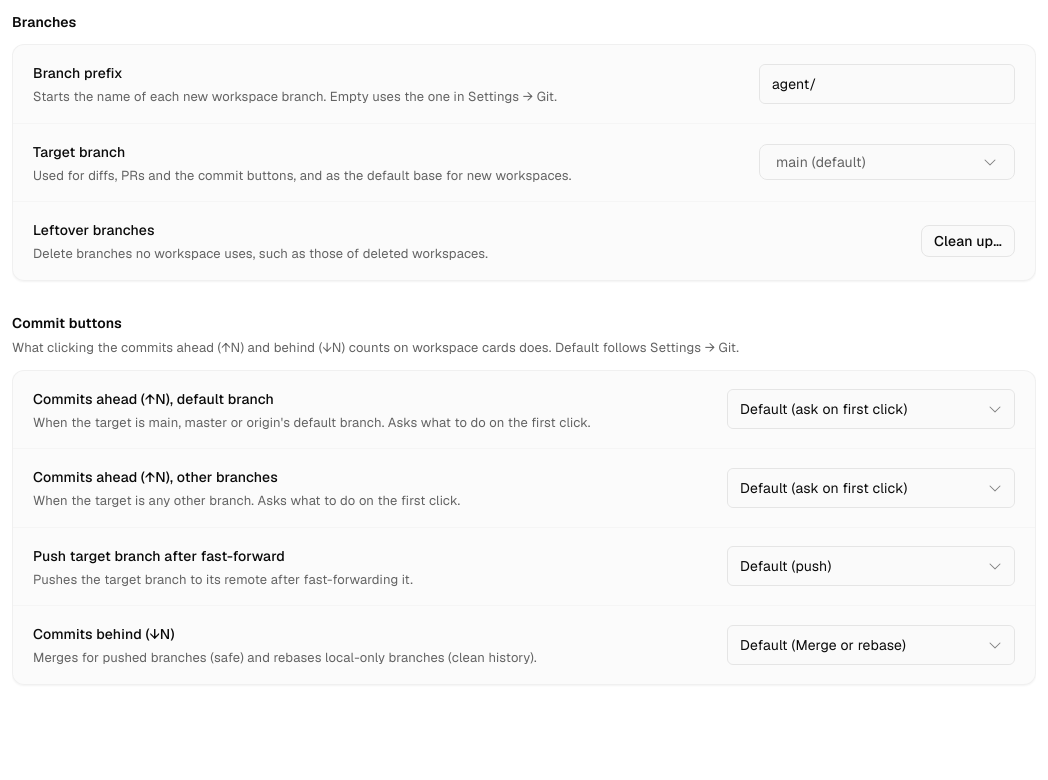
Test: ProjectSettingsPage › asks for the action to run when Run quick command is picked
The image size is (1048, 780).
Expected: the text "Quick command to run for the default branch" is not shown
Select "Run quick command" in the dropdown labelled "Commits ahead (↑N), default branch": coordinates (871, 409) [727, 389, 1015, 429]
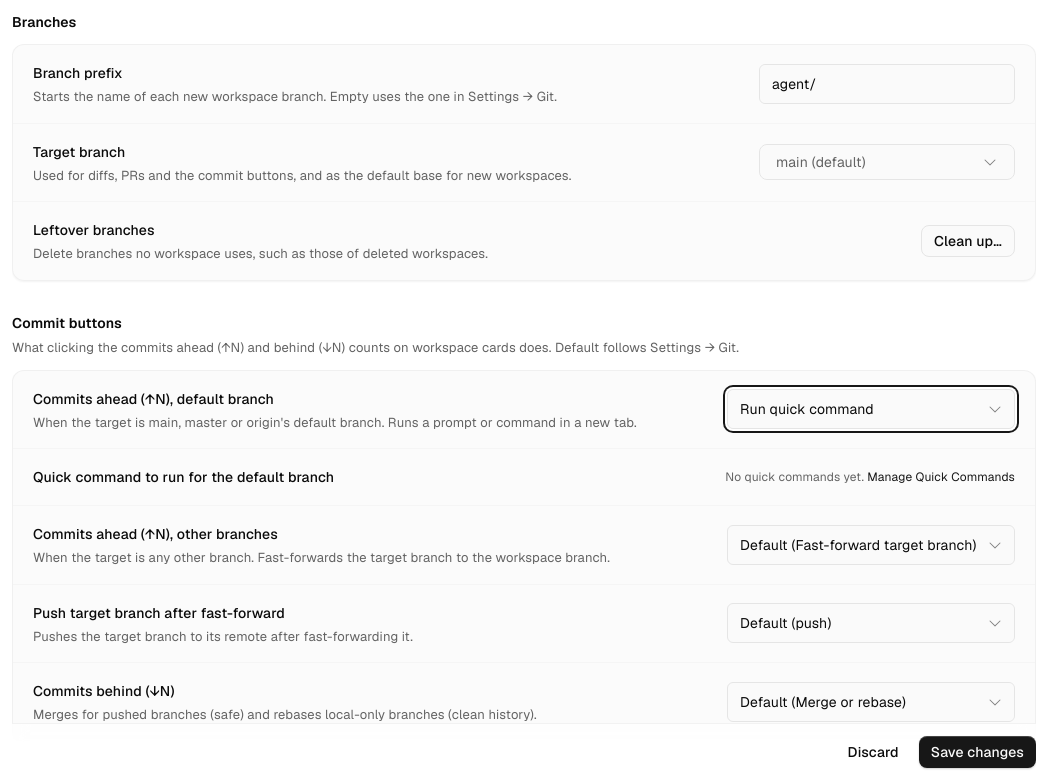
Expected: the dropdown labelled "Push target branch after fast-forward" is shown, [727, 603, 1015, 643]
Now the text "Quick command to run for the default branch" is shown, box [33, 468, 334, 486]
